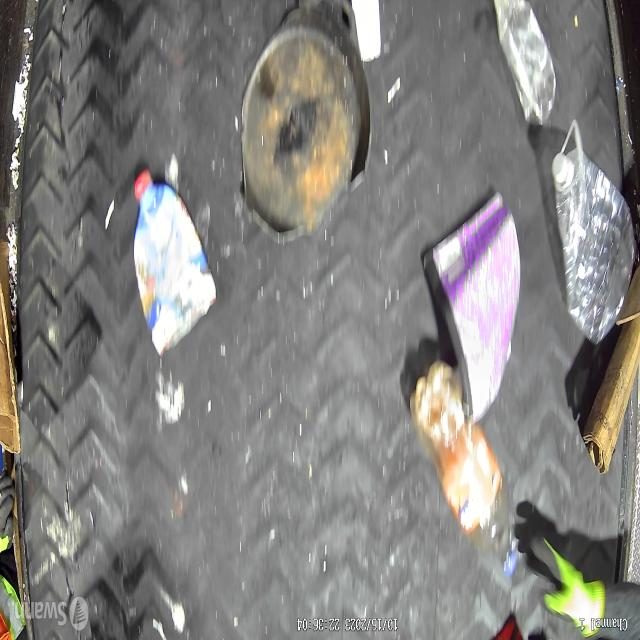plastic_bottle: (408, 360, 518, 576), (552, 150, 636, 347), (492, 2, 555, 126)
